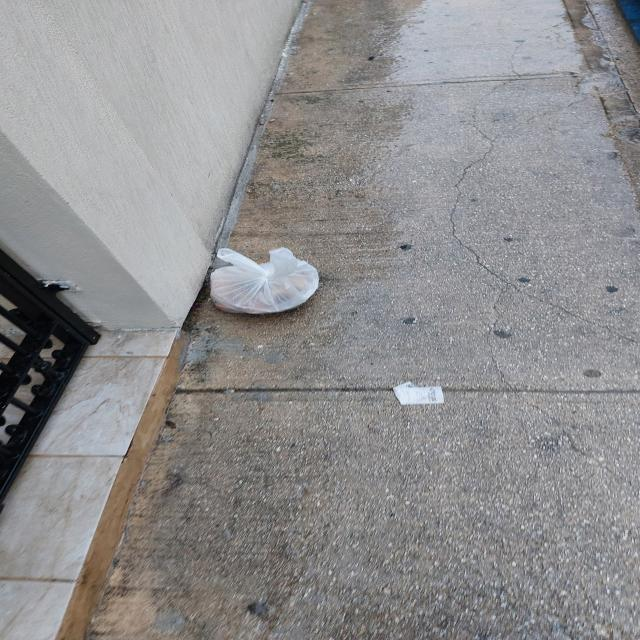Organic Waste -White Bag-: (212, 249, 321, 315)
